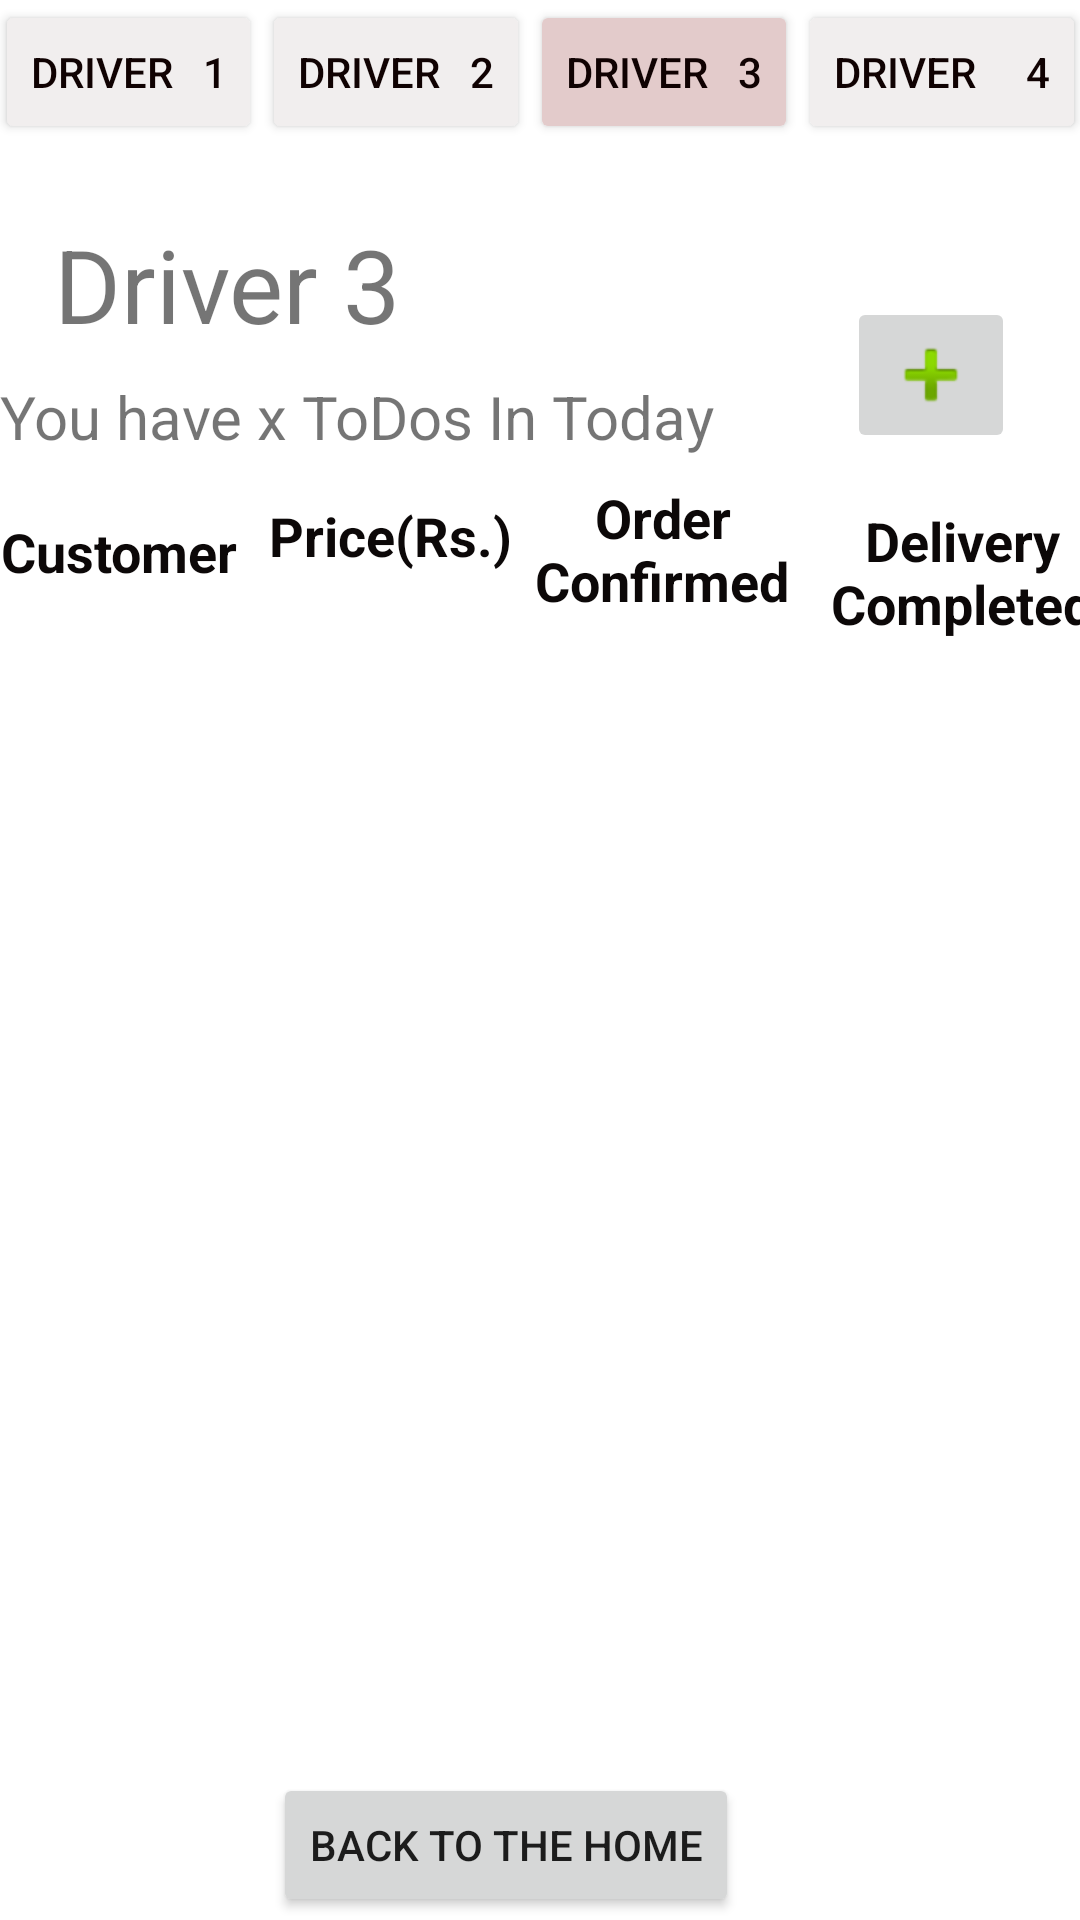

Named icons in this screenshot (1080px x 1920px) and their centers, [x,y]:
add: [931,375]
